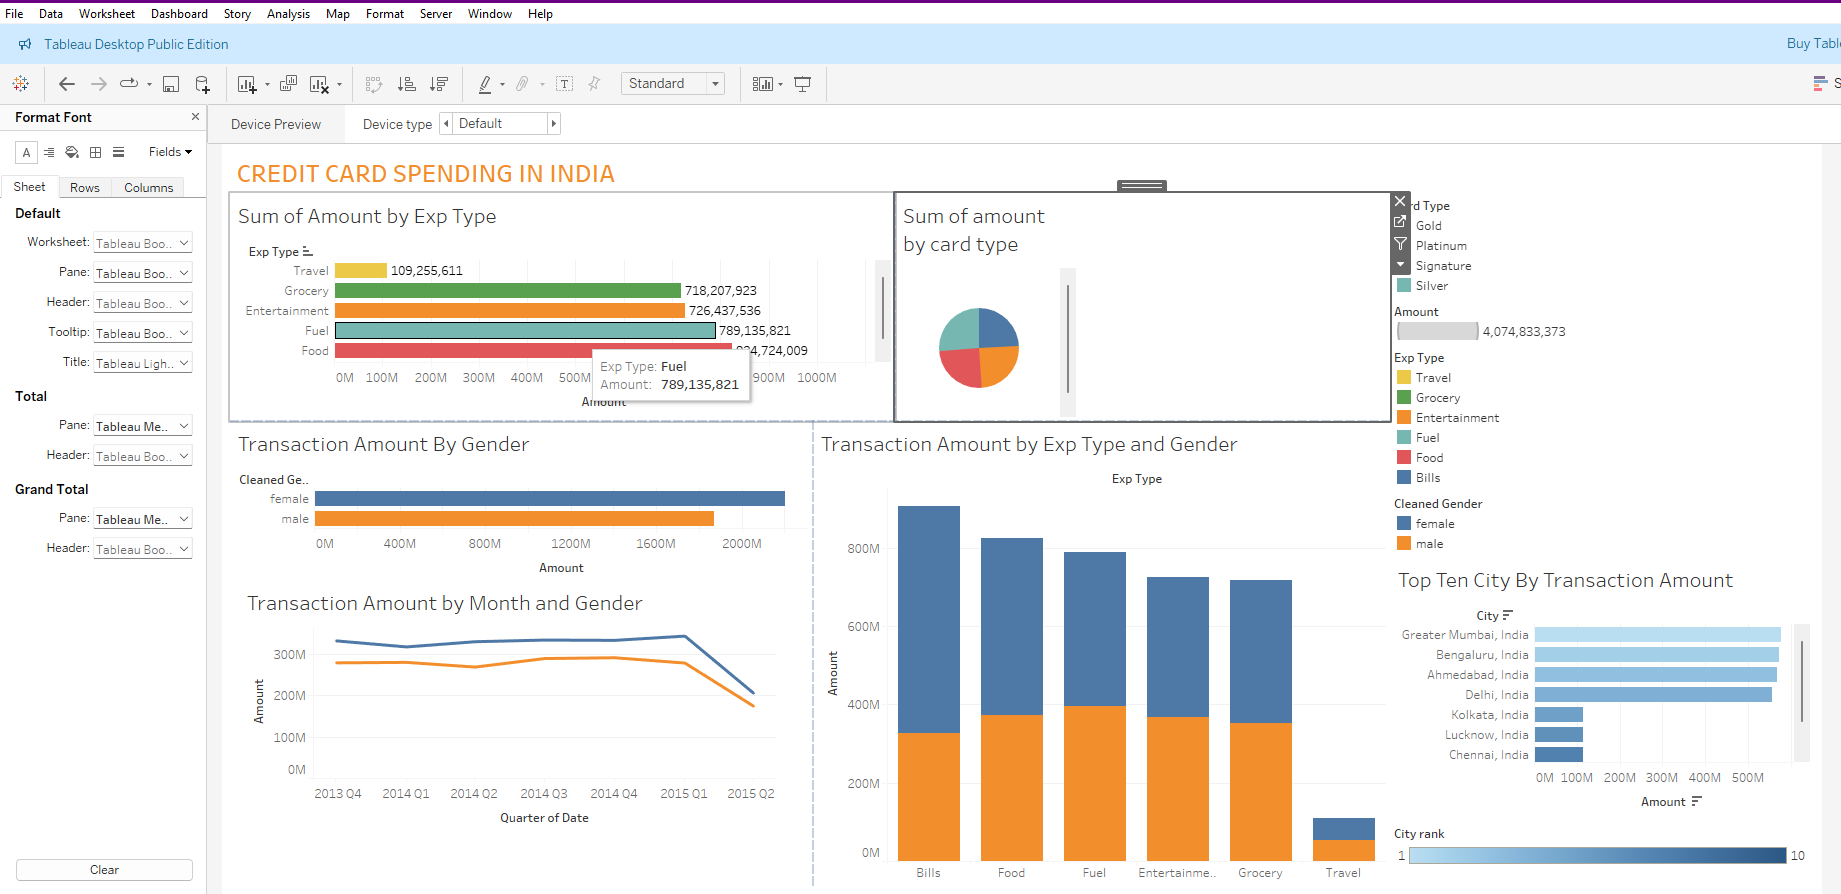

This screenshot's page, from the dashboard's own definition file:
{"tool":"tableau","page":{"name":"Dashboard 2","canvas":[1000,1000],"units":"permille","ordinal":1},"visuals":[{"type":"title","box":[5.7,11.1,988.6,56.6]},{"type":"worksheet","title":"Sum of Amount by Exp Type","mark":"Automatic","rows":["Exp Type"],"cols":["Amount"],"box":[5.7,67.7,393.4,303.5]},{"type":"worksheet","title":"Sum of amount by card type","mark":"Pie","box":[399.1,67.7,292.3,303.5]},{"type":"legend","title":"Sum of amount by card type","param":"[federated.0bqtsgf0cyjzt512mnpm90nud7k3].[none:Card Type:nk]","box":[691.4,67.7,302.9,146.4]},{"type":"legend","title":"Sum of amount by card type","param":"[federated.0bqtsgf0cyjzt512mnpm90nud7k3].[sum:Amount:qk]","box":[691.4,214.1,302.9,63.5]},{"type":"legend","title":"Sum of Amount by Exp Type","param":"[federated.0bqtsgf0cyjzt512mnpm90nud7k3].[none:Exp Type:nk]","box":[691.4,277.6,302.9,201.7]},{"type":"worksheet","title":"Transaction Amount By Gender","mark":"Automatic","rows":["Calculation_1058627455885185024"],"cols":["Amount"],"box":[5.7,371.2,344.8,617.8]},{"type":"worksheet","title":"Transaction Amount by Exp Type and Gender","mark":"Automatic","rows":["Amount"],"cols":["Exp Type"],"box":[350.5,371.2,341,617.8]},{"type":"legend","title":"Transaction Amount By Gender","param":"[federated.0bqtsgf0cyjzt512mnpm90nud7k3].[none:Calculation_1058627455885185024:n","box":[691.4,479.3,302.9,91.2]},{"type":"worksheet","title":"Top Ten City By Transaction Amount","mark":"Automatic","rows":["City"],"cols":["Amount"],"box":[691.4,570.5,302.9,328.7]},{"type":"worksheet","title":"Transaction Amount by Month and Gender","mark":"Automatic","rows":["Amount"],"cols":["Date"],"box":[13.1,586.7,333.1,332]},{"type":"legend","title":"Top Ten City By Transaction Amount","param":"[federated.0bqtsgf0cyjzt512mnpm90nud7k3].[usr:Calculation_1058627455887179777:qk","box":[691.4,899.2,302.9,89.8]}]}

Visuals, with their boxes on the dashboard's canvas, which has no fixed pixel size, in thousandths of its width and height (x1, y1, x2, y2). These are canvas units, not pixel positions in the 1841x894 screenshot, which may show the page scaled, cropped or inside an application window:
title: bbox=[6, 11, 994, 68]
"Sum of Amount by Exp Type" worksheet: bbox=[6, 68, 399, 371]
"Sum of amount by card type" worksheet (Pie marks): bbox=[399, 68, 691, 371]
"Sum of amount by card type" legend: bbox=[691, 68, 994, 214]
"Sum of amount by card type" legend: bbox=[691, 214, 994, 278]
"Sum of Amount by Exp Type" legend: bbox=[691, 278, 994, 479]
"Transaction Amount By Gender" worksheet: bbox=[6, 371, 350, 989]
"Transaction Amount by Exp Type and Gender" worksheet: bbox=[350, 371, 692, 989]
"Transaction Amount By Gender" legend: bbox=[691, 479, 994, 570]
"Top Ten City By Transaction Amount" worksheet: bbox=[691, 570, 994, 899]
"Transaction Amount by Month and Gender" worksheet: bbox=[13, 587, 346, 919]
"Top Ten City By Transaction Amount" legend: bbox=[691, 899, 994, 989]
